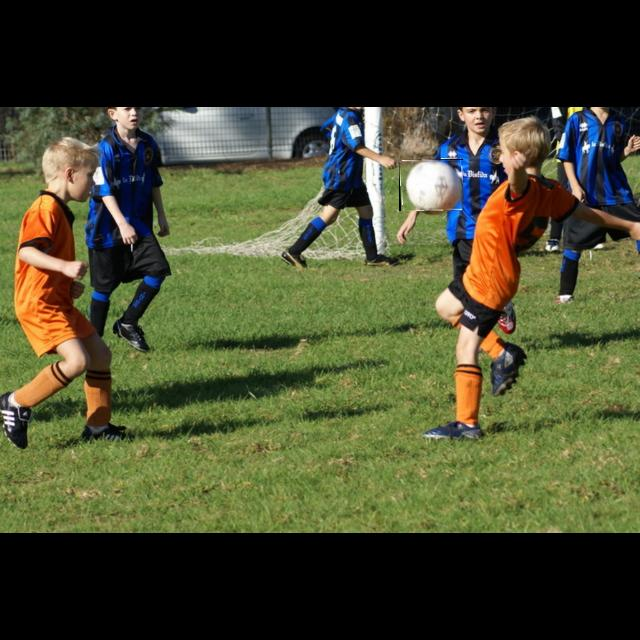Football: (399, 159, 463, 211)
